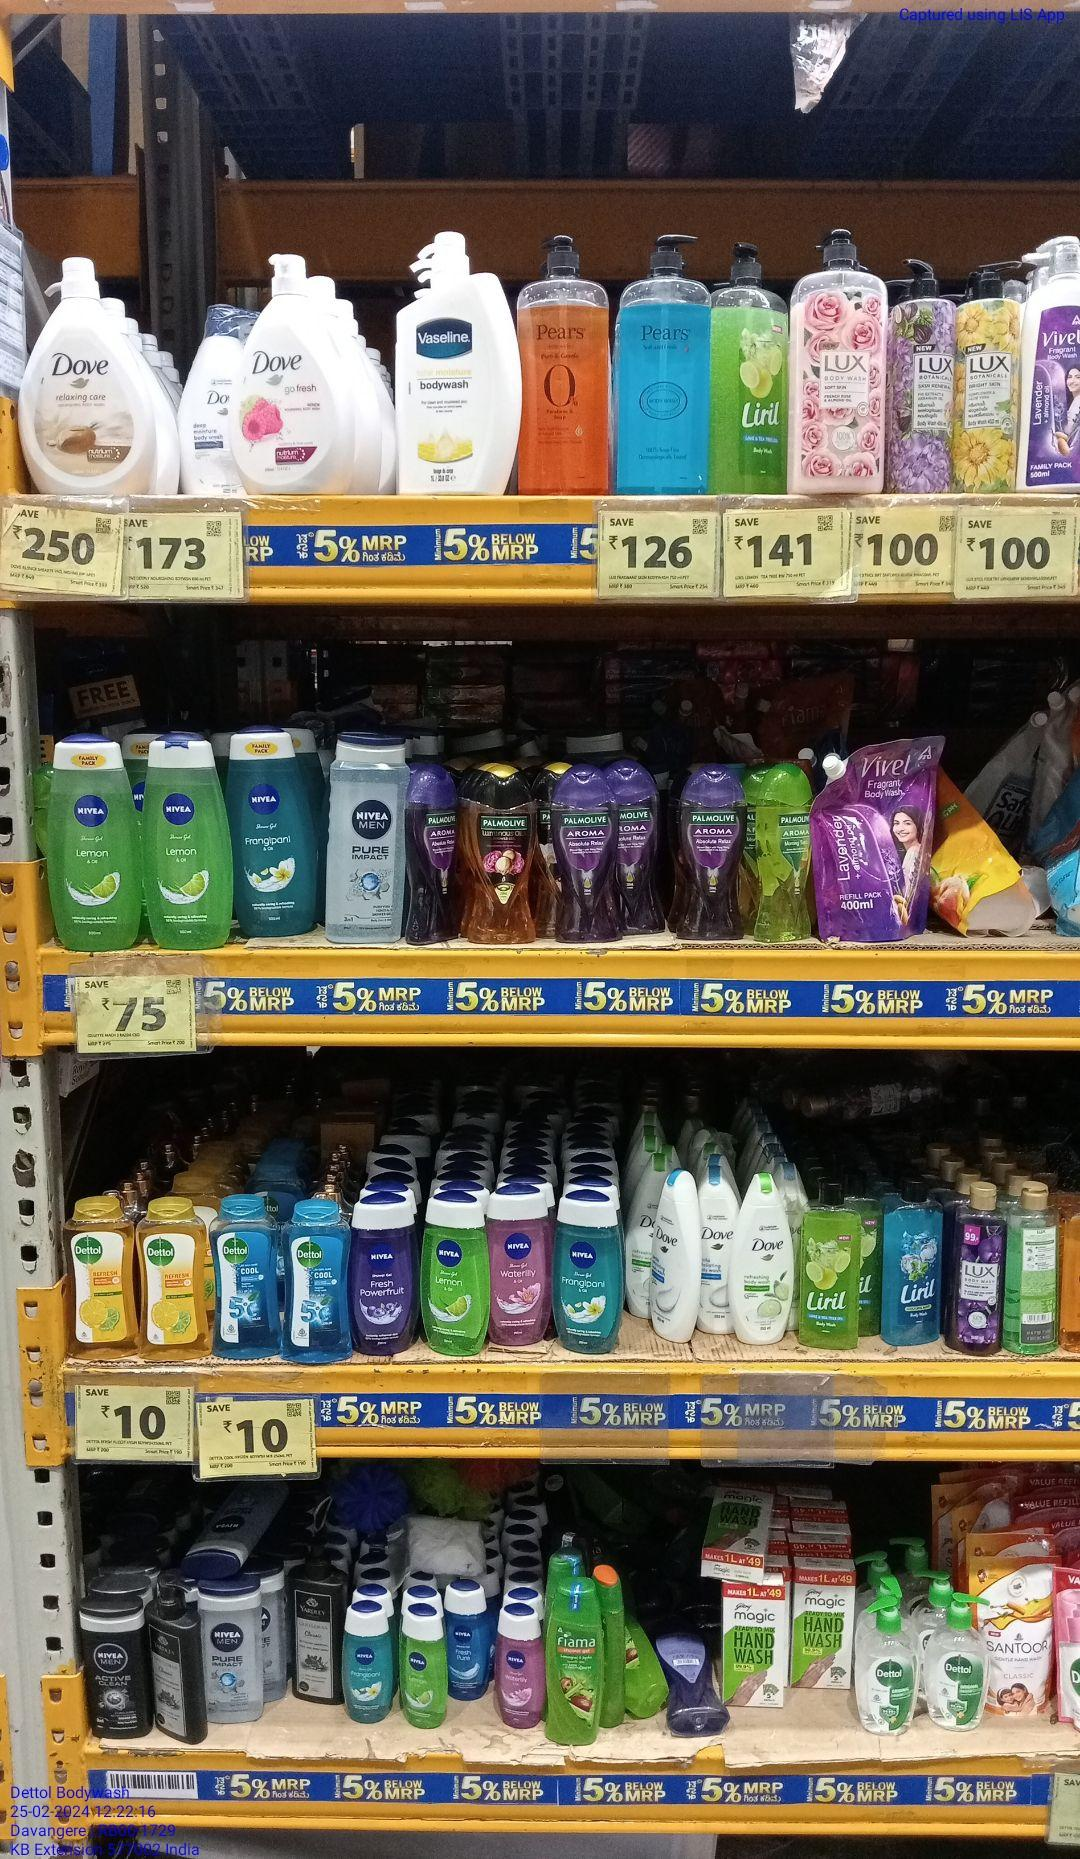Dettol_Bodywash_Cool: (212, 1198, 280, 1359), (288, 1205, 352, 1364)
Dettol_Bodywash_Refresh: (138, 1207, 211, 1364), (67, 1206, 135, 1361)
Dove_Gentle_Exfoliating_Body_Wash_250ML: (656, 1171, 697, 1345), (701, 1169, 729, 1334)
Dove_Refreshing_Body_Wash_250ML: (733, 1174, 793, 1343)
Fiama_Shower_Gel_Lemongrass_and_Jojoba_250ML: (546, 1583, 602, 1746)
Liril_Cooling_Mint_Body_Wash_250ML: (879, 1176, 941, 1346)
Liril_Lime_and_Tea_Tree_Oil_Body_Wash_250ML: (802, 1183, 860, 1350)
Lux_Black_Orchid_Scent_and_Juniper_Oil_Body_Wash_245ML: (959, 1185, 1002, 1358)
Nivea_Shower_Gel_Frangipani_and_Oil_250ML: (233, 728, 312, 936), (558, 1196, 624, 1354), (342, 1607, 391, 1724)
Nivea_Shower_Gel_Fresh_Powerfruit_250ML: (357, 1198, 415, 1354)
Nivea_Shower_Gel_Lemon_and_Oil_250ML: (51, 739, 140, 950), (147, 735, 233, 946), (422, 1196, 486, 1358), (404, 1611, 449, 1728)
Nivea_Shower_Gel_Waterlily_and_Oil_250ML: (490, 1190, 552, 1345), (499, 1606, 543, 1729)
Palmolive_Aroma_Morning_Tonic_Shower_Gel_250ML: (752, 770, 815, 942)
Palmolive_Aroma_Relax_250ML: (553, 766, 620, 944), (681, 769, 747, 935), (404, 765, 458, 942)
Palmolive_Luminous_Oils_Invigorating_Macadamia_Oil_With_Peony_250ML: (465, 761, 541, 945)
